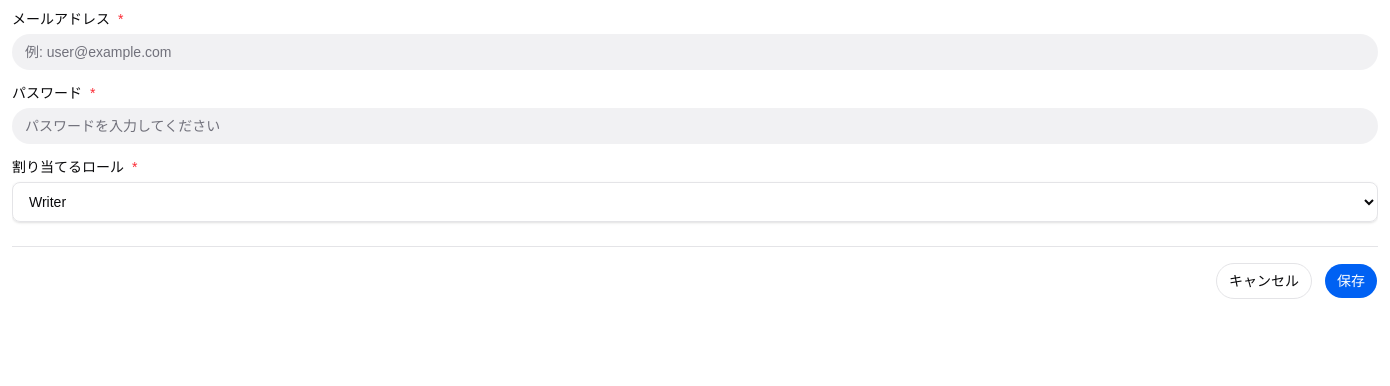
Test: UserForm › shows validation error for invalid email
The image size is (1390, 386).
Type "not-an-email" into the field labelled "メールアドレス *" at (695, 52), box [12,34,1378,70]
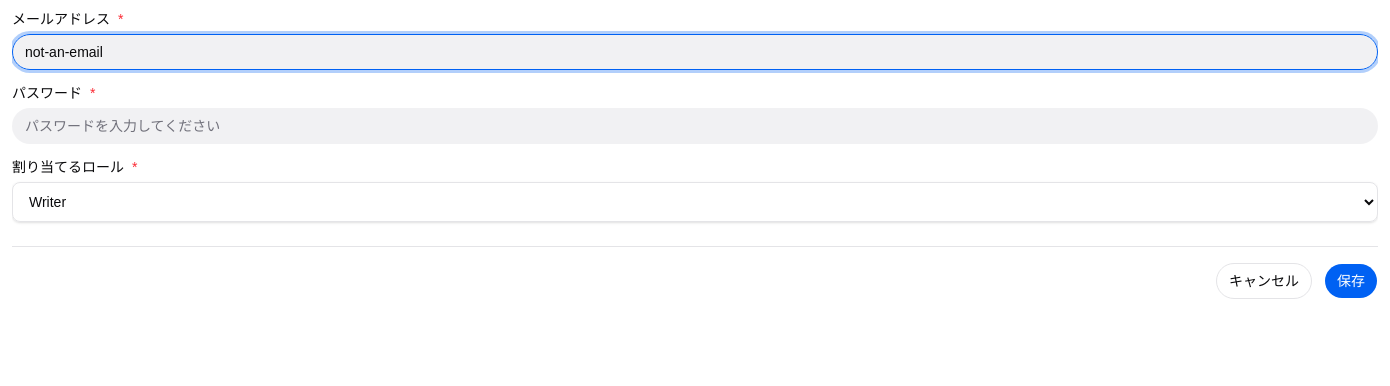
Type "secret" into the password field labelled "パスワード *" at (695, 126), box [12,108,1378,144]
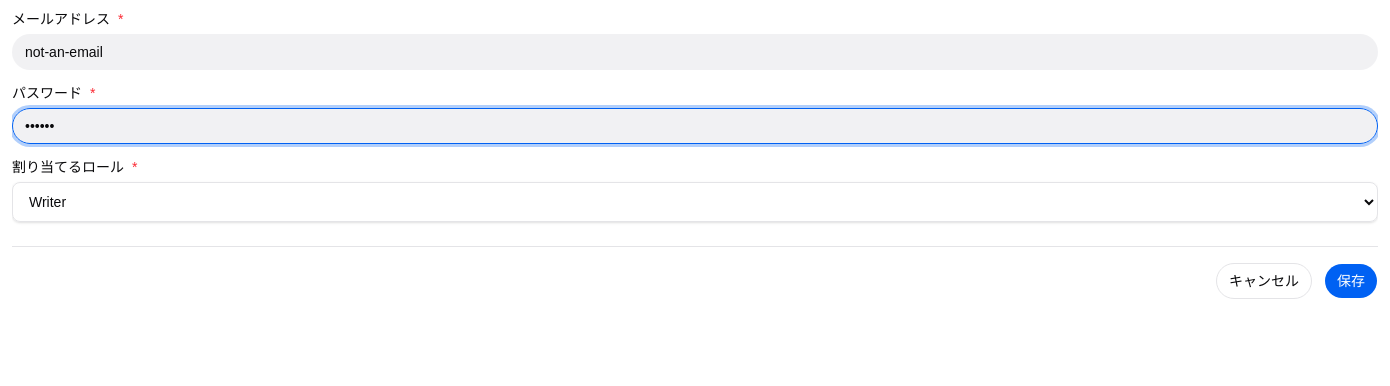
Submit the form "保存"
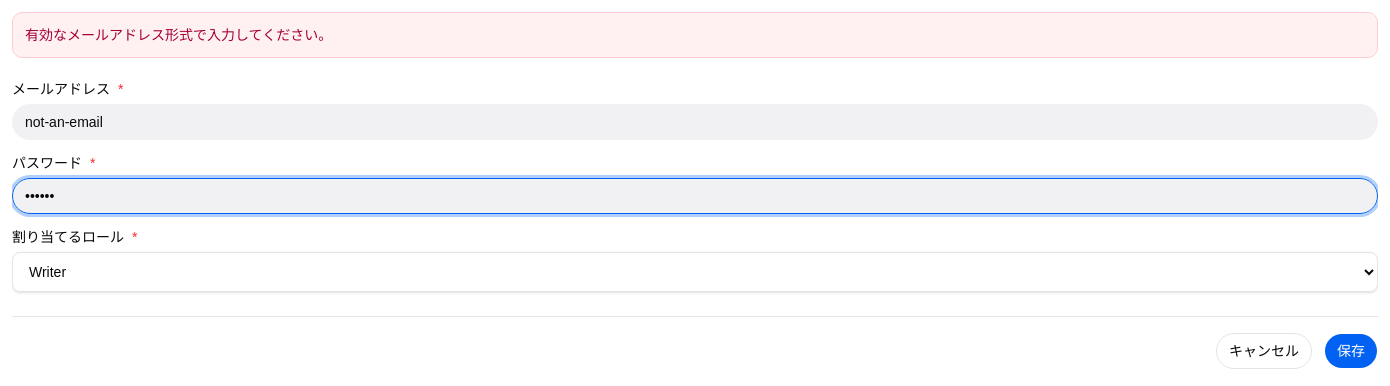
Expected: the text "有効なメールアドレス形式で入力してください。" is shown, [12,12,1378,58]
